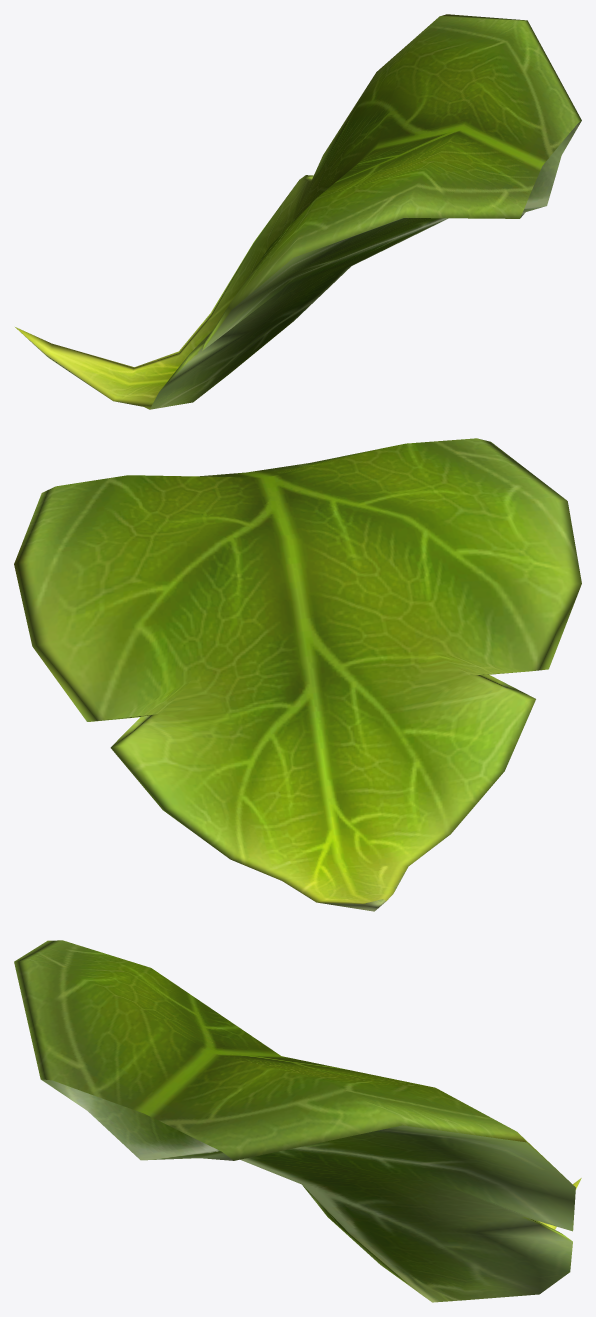
Rendered from sunflower2_hoja_tras_der.obj.
3 renders of one model, top to bottom at view 1: azimuth 30°, elevation 25°; view 2: azimuth 150°, elevation 25°; view 3: azimuth 270°, elevation 25°, orthographic. The views are drawn at different scales.
Parts seen in each view (by area): view 1: sunflower2_hoja_tras_der; view 2: sunflower2_hoja_tras_der; view 3: sunflower2_hoja_tras_der.
Boxes of the visible parts, x1,y1,x2,y2 form: sunflower2_hoja_tras_der: (15,14,581,409); sunflower2_hoja_tras_der: (14,438,581,911); sunflower2_hoja_tras_der: (14,940,581,1302).
Bounding box in the file's own units: 0.3899 × 0.2802 × 0.3893.
